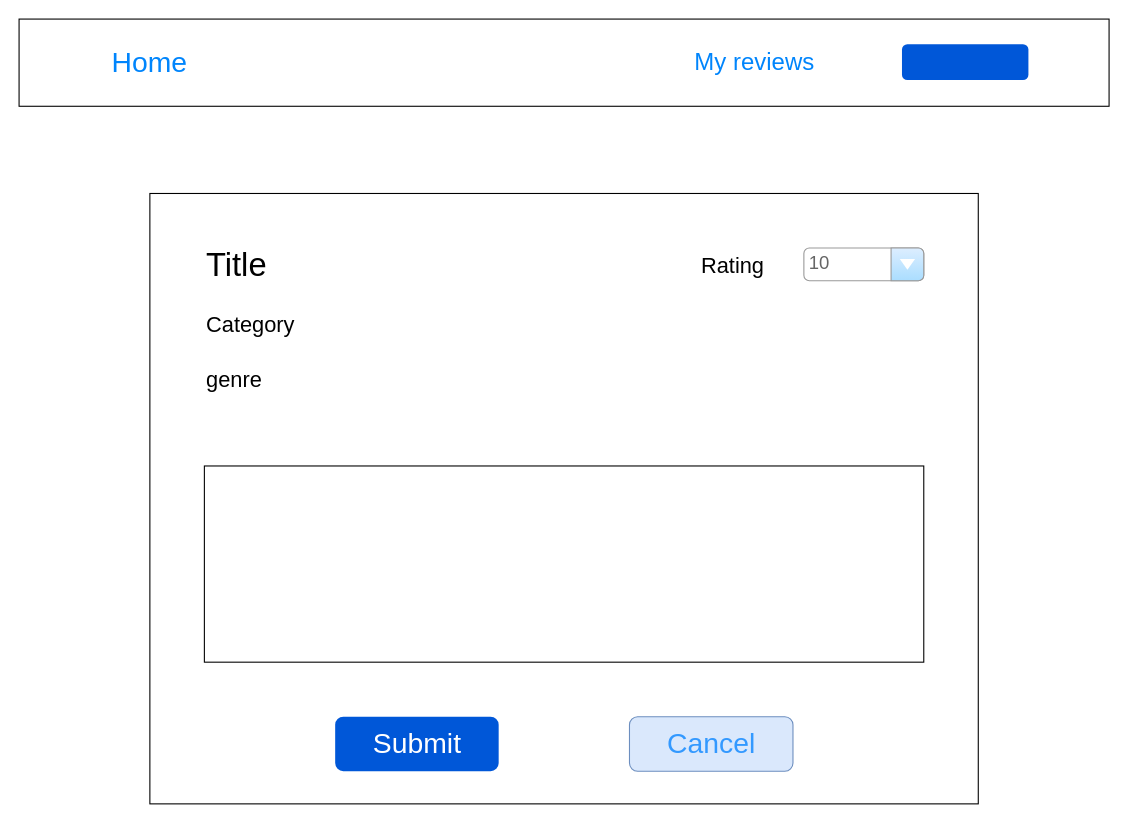
This 1128x823 diagram has some shape labels left out. Here are the shapes that lost their labels. From the top down, the box of each, then its label:
(901, 44, 1028, 80): sign out
(203, 465, 924, 662): Review input
